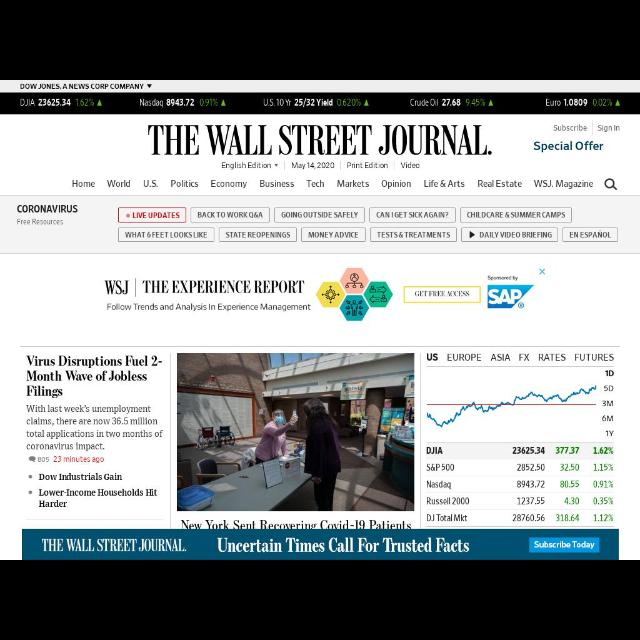icon: (604, 178, 618, 190), (486, 96, 496, 110), (362, 96, 372, 110), (614, 95, 622, 108), (220, 96, 227, 110), (28, 454, 36, 462), (27, 472, 33, 480), (28, 488, 34, 496), (469, 230, 475, 238), (98, 97, 102, 109), (274, 162, 280, 168)
iframe: (95, 268, 548, 322), (22, 528, 618, 558)
image: (177, 354, 413, 510), (421, 346, 615, 526)
multitab: (1, 196, 639, 252), (2, 173, 640, 194)
text: (148, 122, 488, 156), (26, 403, 164, 451), (27, 353, 163, 399), (40, 474, 156, 508), (180, 518, 412, 528), (17, 204, 79, 228), (260, 98, 362, 109), (18, 96, 96, 110), (138, 98, 218, 109), (409, 95, 486, 106), (532, 140, 602, 152), (545, 94, 613, 106), (218, 158, 274, 172), (554, 121, 620, 132), (28, 456, 106, 464), (535, 178, 593, 188), (210, 178, 250, 190), (475, 178, 523, 188), (344, 161, 392, 171), (292, 160, 336, 170), (424, 181, 466, 191), (70, 176, 96, 192), (337, 180, 369, 190), (381, 179, 413, 189), (170, 179, 200, 189), (110, 179, 132, 191), (258, 182, 296, 188), (304, 180, 328, 188), (144, 179, 158, 187), (403, 162, 423, 166)
textbutton: (461, 208, 572, 224), (119, 228, 214, 242), (275, 208, 365, 222), (220, 227, 296, 243), (370, 208, 456, 222), (461, 228, 557, 240), (191, 208, 269, 222), (371, 228, 455, 240), (302, 228, 363, 242), (119, 210, 185, 222), (564, 229, 618, 241)
toolbar: (2, 116, 640, 172)
